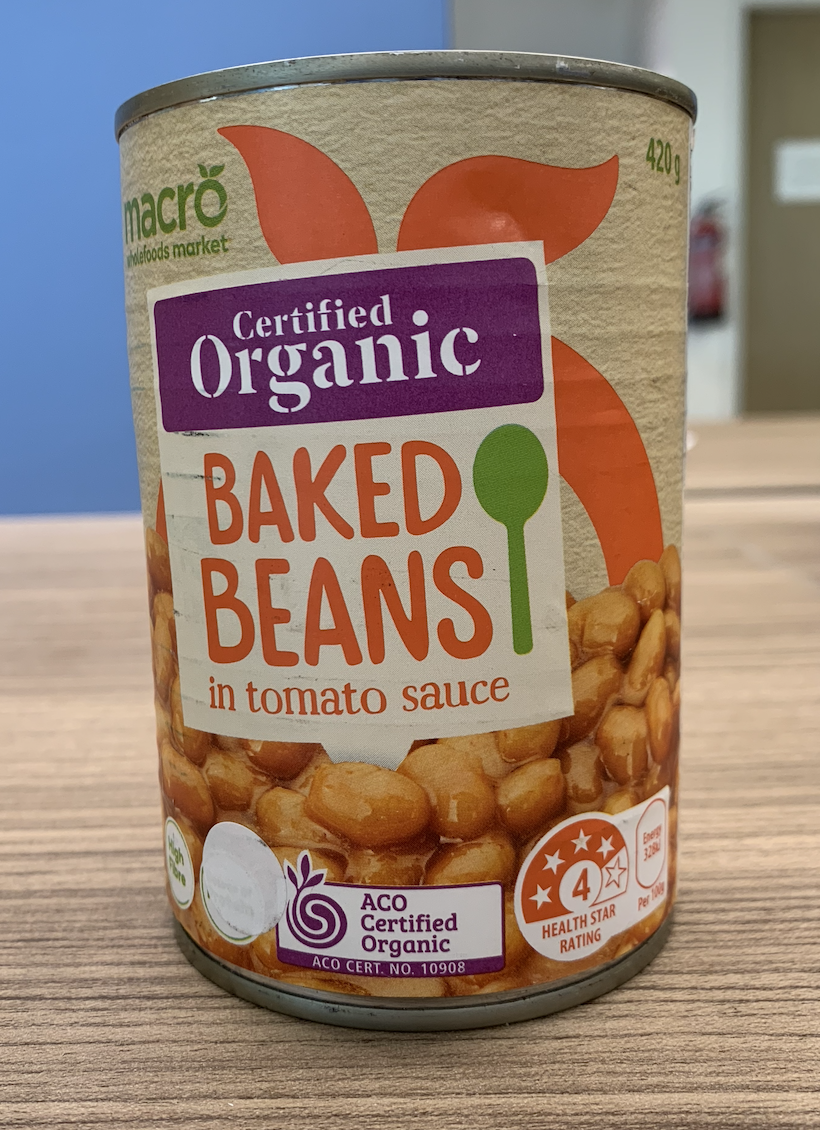Baked beans_400-499g: (164, 105, 661, 973)
